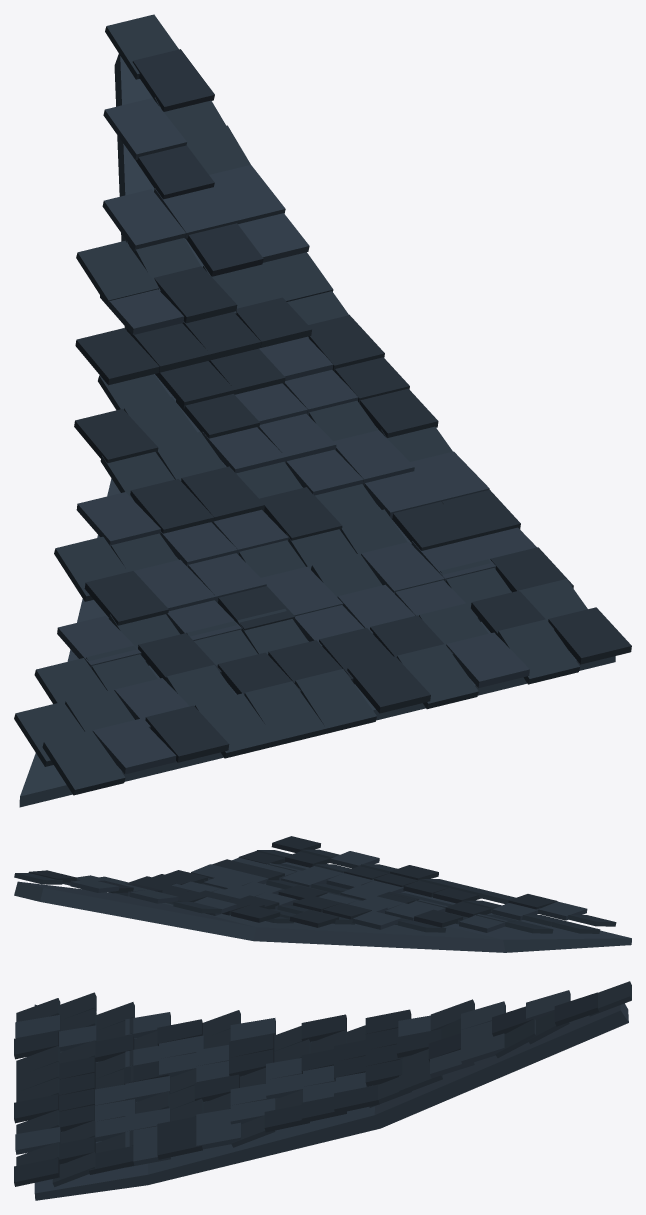
Rendered from Roof_Tile08_JP.fbx.
The picture shows the model from 3 angles, top to bottom: view 1: azimuth 30°, elevation 25°; view 2: azimuth 150°, elevation 25°; view 3: azimuth 270°, elevation 25°; orthographic projection. The views are drawn at different scales.
Visible parts, largest first — view 1: Roof_Tile08_JP_LOD0; view 2: Roof_Tile08_JP_LOD0; view 3: Roof_Tile08_JP_LOD0.
Boxes of the visible parts, left/top/right/bottom form: Roof_Tile08_JP_LOD0: left=14, top=14, right=631, bottom=807; Roof_Tile08_JP_LOD0: left=14, top=836, right=631, bottom=952; Roof_Tile08_JP_LOD0: left=14, top=981, right=631, bottom=1200.
Size of what is drawn, in the model's own units: 514 by 258 by 711.
